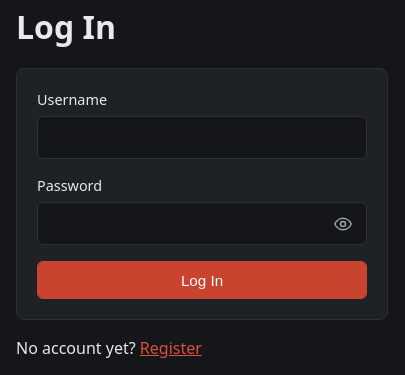
Scenario: AuthPage › shows and hides the typed password with the eye button
The width and height of the screenshot is (405, 375).
In the password field labelled "Password": (202, 224) [37, 202, 367, 245], type "kusabimaru"
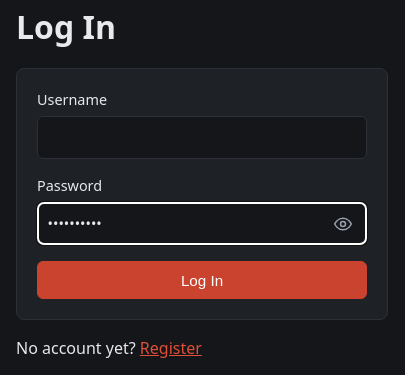
Click the button named "Show password": (343, 224) [325, 206, 361, 242]
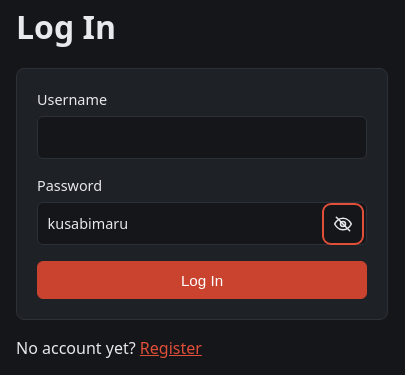
Expected: the field labelled "Password" shows its text, [37, 202, 367, 245]
Click the button named "Hide password": (343, 224) [325, 206, 361, 242]
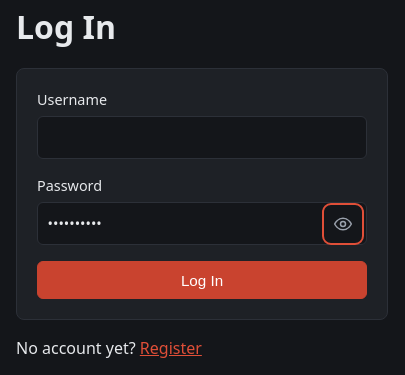
Expected: the password field labelled "Password" hides its text, [37, 202, 367, 245]
